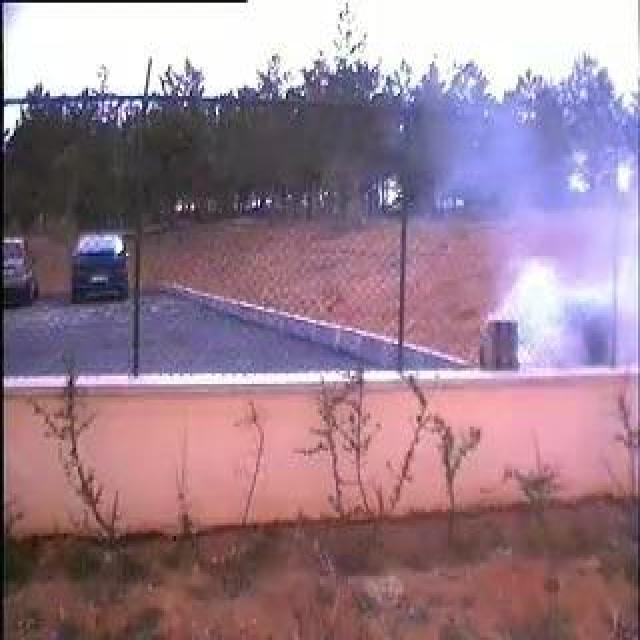Smoke: (470, 102, 626, 366)
